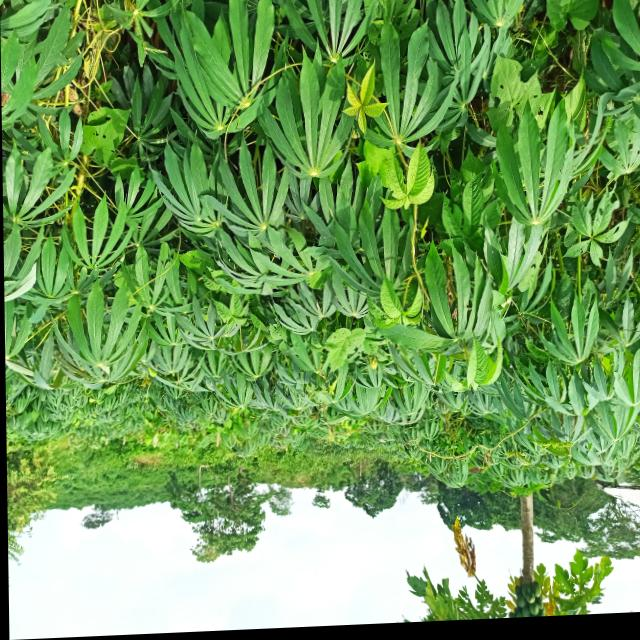Maleza: (486, 49, 584, 120), (10, 443, 117, 508), (433, 140, 498, 240), (379, 131, 441, 216), (108, 439, 225, 477), (83, 102, 134, 171), (214, 290, 280, 342), (371, 274, 427, 333), (346, 58, 387, 137), (325, 322, 370, 371), (464, 332, 500, 392)
